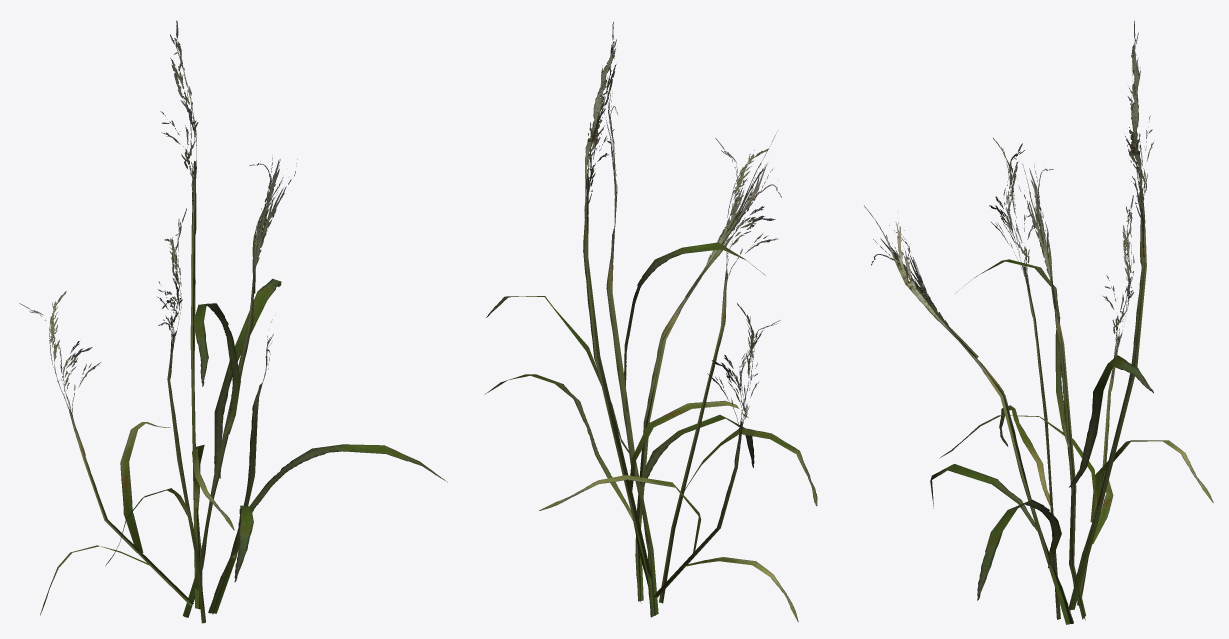
Rendered from grass-medium-01-tall-c.glb.
3 renders of one model, left to right at view 1: azimuth 30°, elevation 25°; view 2: azimuth 150°, elevation 25°; view 3: azimuth 270°, elevation 25°, orthographic. The views are drawn at different scales.
Parts seen in each view (by area): view 1: grass_medium_01_tall_c; view 2: grass_medium_01_tall_c; view 3: grass_medium_01_tall_c.
Boxes of the visible parts, <box> form: grass_medium_01_tall_c: <box>19,20,447,623</box>; grass_medium_01_tall_c: <box>484,22,817,622</box>; grass_medium_01_tall_c: <box>864,20,1213,624</box>.
Size of the model in its own units: 0.153 by 0.2363 by 0.1282.
Materials: 1 (1 with a texture image).
